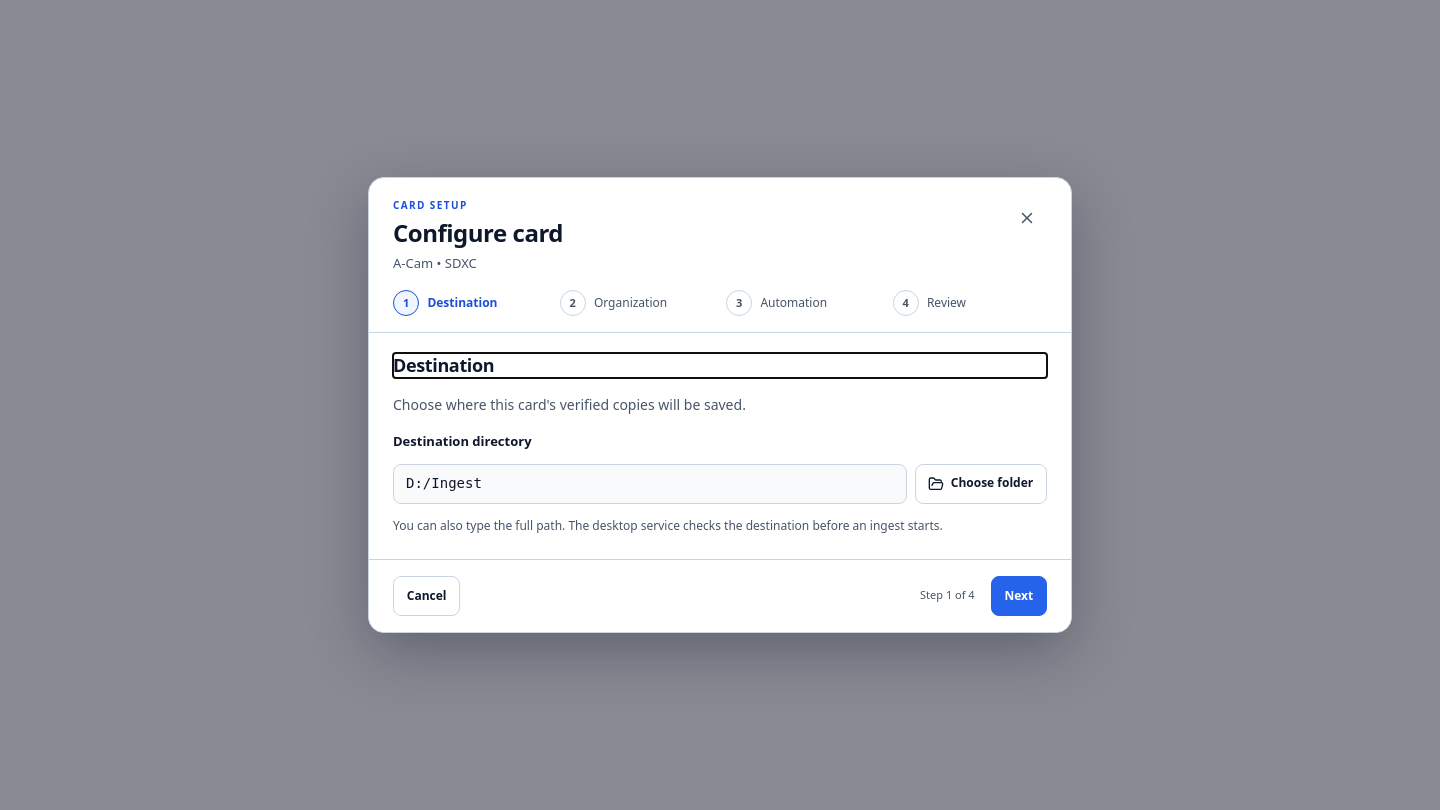
Test: original-folder review omits the time-basis choice and clock warning
Click the button "Next": {"x": 1019, "y": 596} [991,576,1047,616]
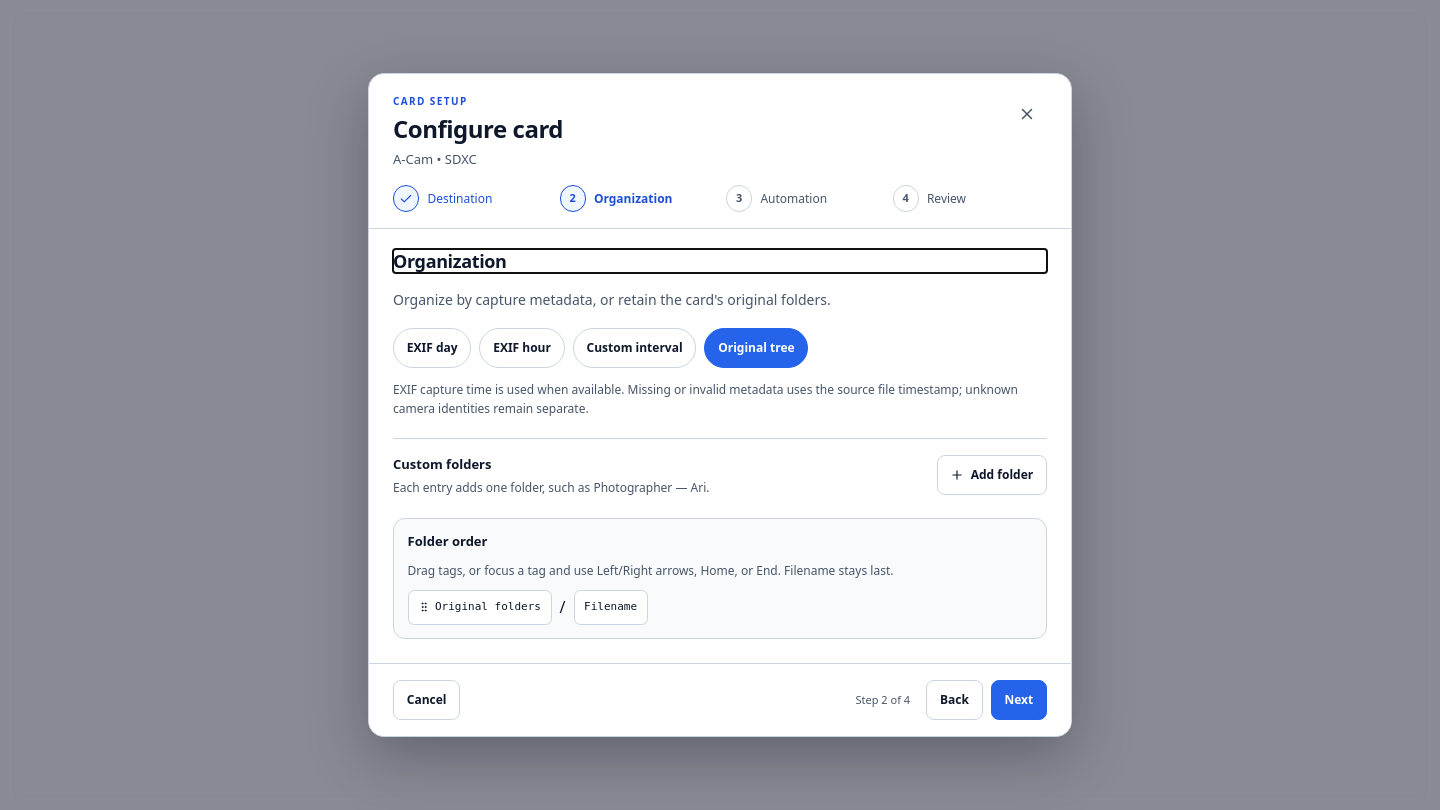
Click the button "Next": {"x": 1019, "y": 700} [991,680,1047,720]
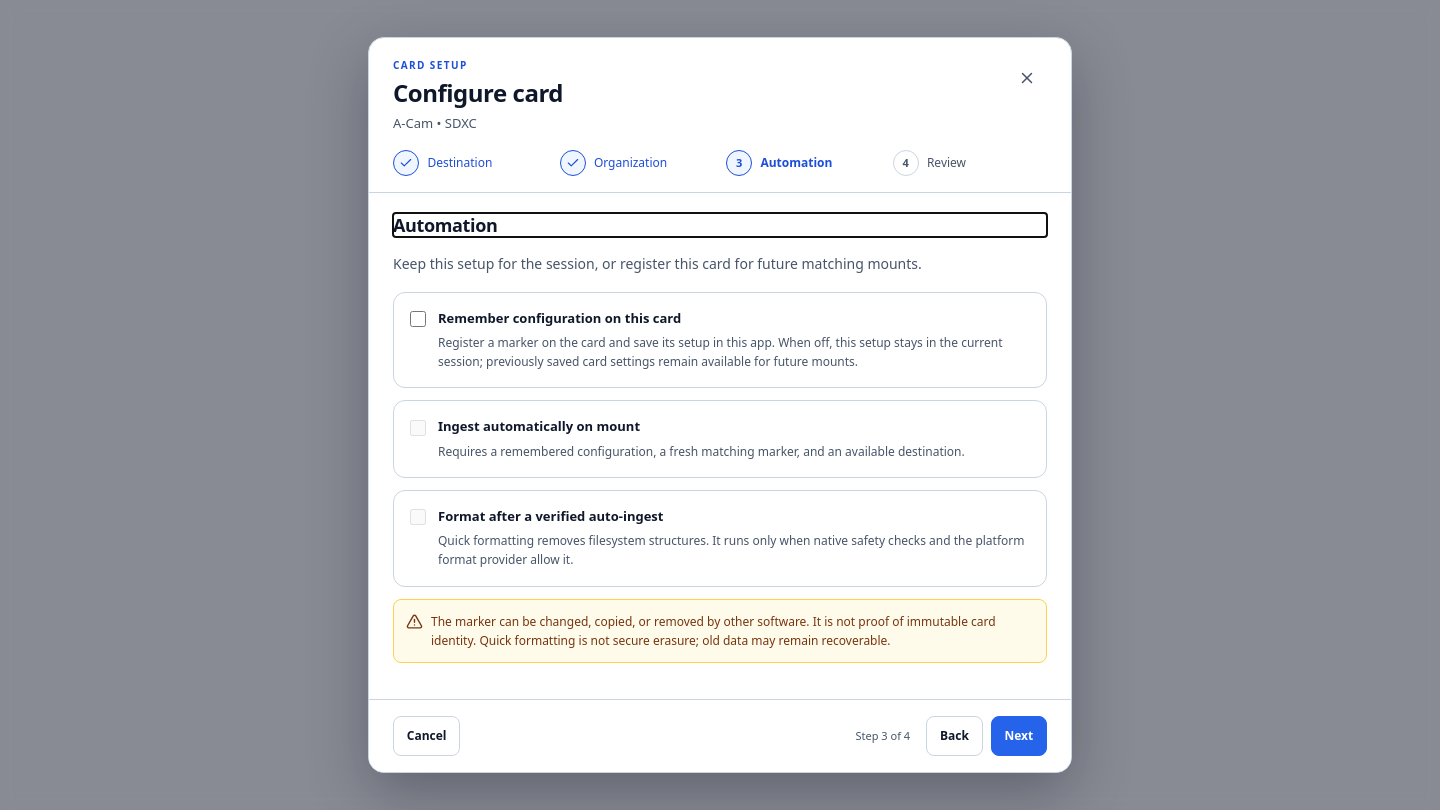
Expected: the heading "Automation" is shown, [393,213,497,237]
Click the button "Next": {"x": 1019, "y": 736} [991,716,1047,756]
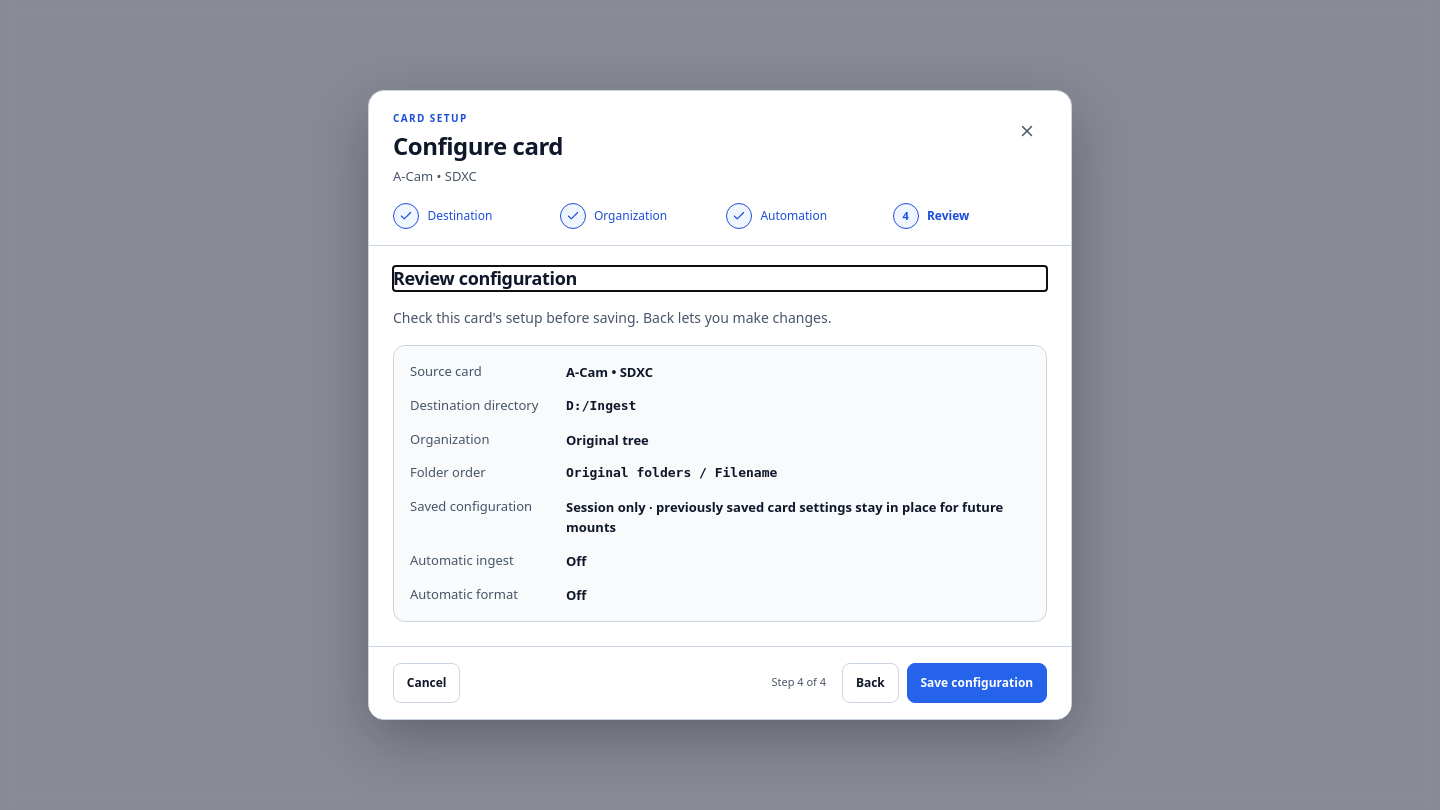
Expected: the heading "Review configuration" is shown, [393,266,577,290]
